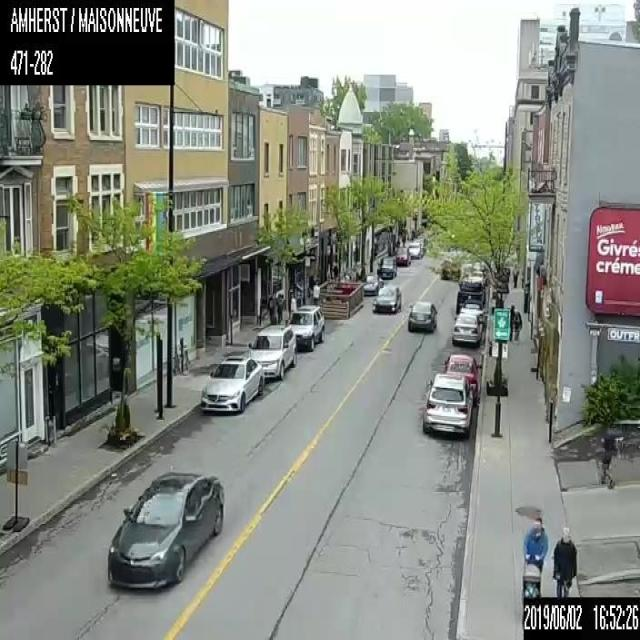pedestrian: (520, 515, 547, 596), (552, 527, 577, 596), (508, 304, 515, 341), (275, 292, 283, 320), (267, 292, 275, 320), (312, 280, 319, 304), (523, 280, 528, 313), (511, 264, 518, 287), (333, 262, 337, 278)
vehicle: (106, 469, 226, 591), (199, 354, 264, 414), (422, 371, 474, 436), (248, 324, 296, 379), (443, 352, 482, 402), (287, 304, 324, 350), (406, 297, 438, 332), (451, 314, 481, 346), (455, 280, 484, 313), (372, 285, 401, 313), (460, 298, 484, 326), (362, 272, 383, 294), (376, 256, 396, 278), (394, 247, 410, 266), (408, 241, 421, 258)
